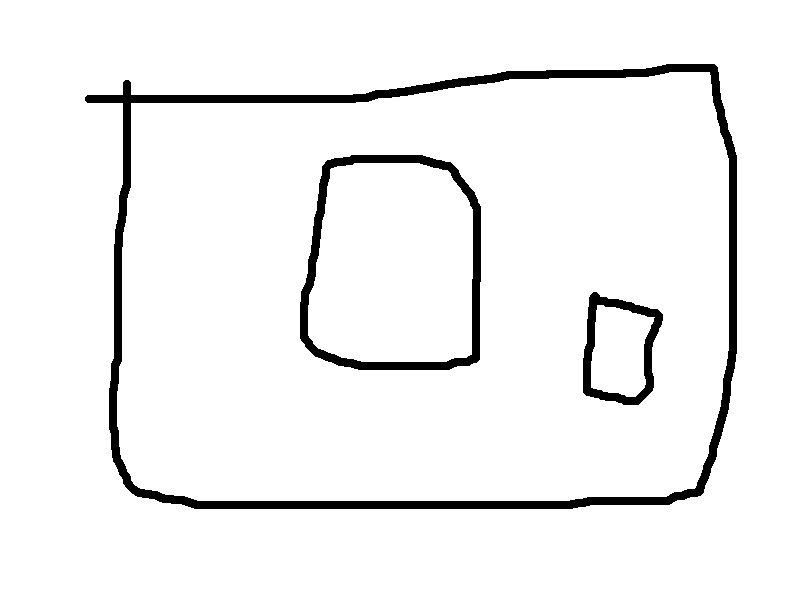dog: (79, 60, 747, 522), (295, 148, 491, 375), (574, 287, 667, 408)
